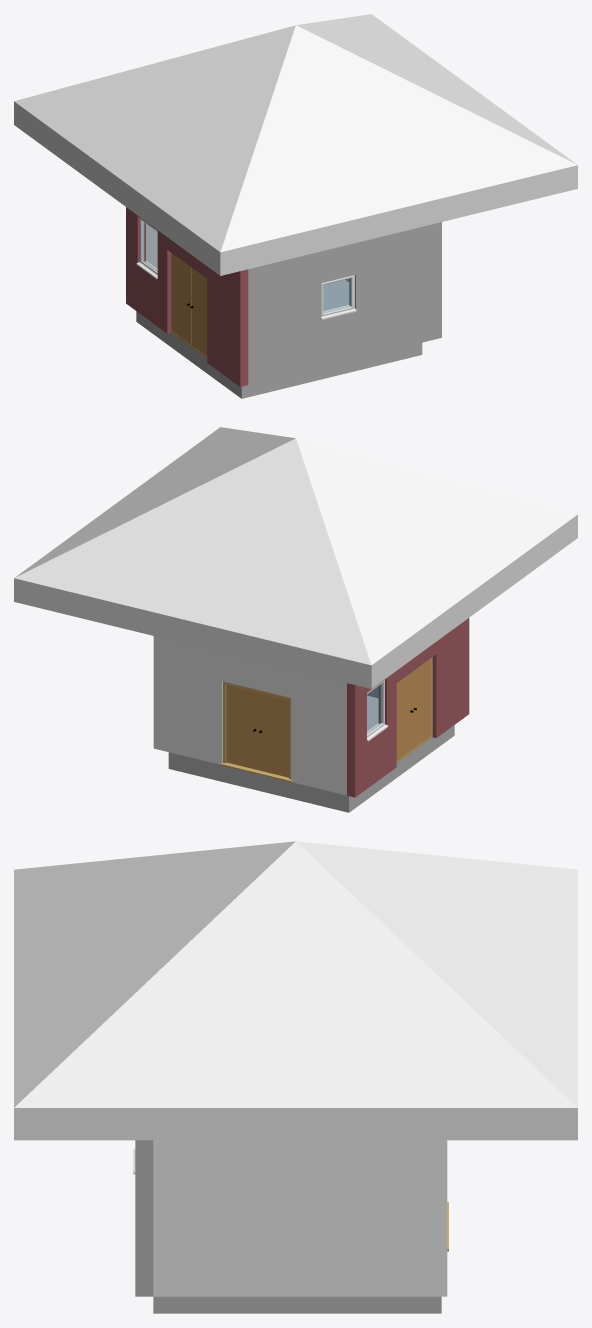
File: model_putra.glb
3 views of the same model, one above another, from view 1: azimuth 30°, elevation 25°; view 2: azimuth 150°, elevation 25°; view 3: azimuth 270°, elevation 25° (orthographic). The views are drawn at different scales.
Visible parts, largest first — view 1: Mesh 8291, Mesh 8273, Mesh 125, Mesh 72, Mesh 8310, Mesh 4249, Mesh 3822, Mesh 8162, Mesh 4218; view 2: Mesh 8230, Mesh 8273, Mesh 323, Mesh 72, Mesh 8310, Mesh 7781, Mesh 4249, Mesh 3822, Mesh 235, Mesh 4218; view 3: Mesh 8310, Mesh 235, Mesh 8230, Mesh 8291, Mesh 4249, Mesh 125.
Boxes of the visible parts, x1,y1,x2,y2 form: Mesh 8291: [220, 25, 577, 275]; Mesh 8273: [14, 25, 295, 275]; Mesh 125: [248, 222, 441, 384]; Mesh 72: [126, 207, 248, 386]; Mesh 8310: [296, 14, 576, 164]; Mesh 4249: [136, 280, 422, 398]; Mesh 3822: [171, 253, 207, 358]; Mesh 8162: [321, 275, 356, 319]; Mesh 4218: [136, 218, 157, 279]; Mesh 8230: [14, 438, 371, 688]; Mesh 8273: [296, 438, 577, 688]; Mesh 323: [166, 639, 346, 795]; Mesh 72: [347, 618, 469, 797]; Mesh 8310: [15, 427, 295, 577]; Mesh 7781: [220, 681, 291, 782]; Mesh 4249: [168, 695, 454, 812]; Mesh 3822: [396, 657, 432, 762]; Mesh 235: [153, 636, 166, 751]; Mesh 4218: [367, 680, 388, 741]; Mesh 8310: [14, 841, 577, 1140]; Mesh 235: [153, 1140, 447, 1296]; Mesh 8230: [296, 841, 577, 1107]; Mesh 8291: [14, 841, 295, 1107]; Mesh 4249: [153, 1296, 441, 1313]; Mesh 125: [135, 1140, 153, 1296].
Size of the model in its own units: 9.4 by 7.78 by 9.4.
